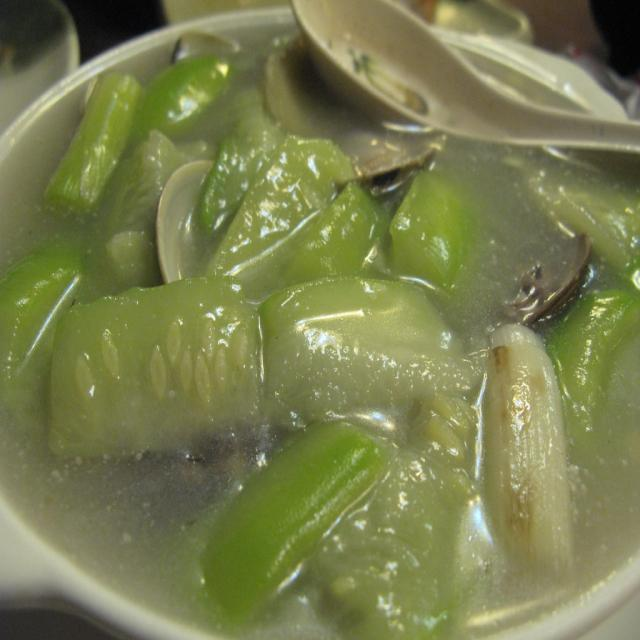Wet: (57, 32, 569, 630)
